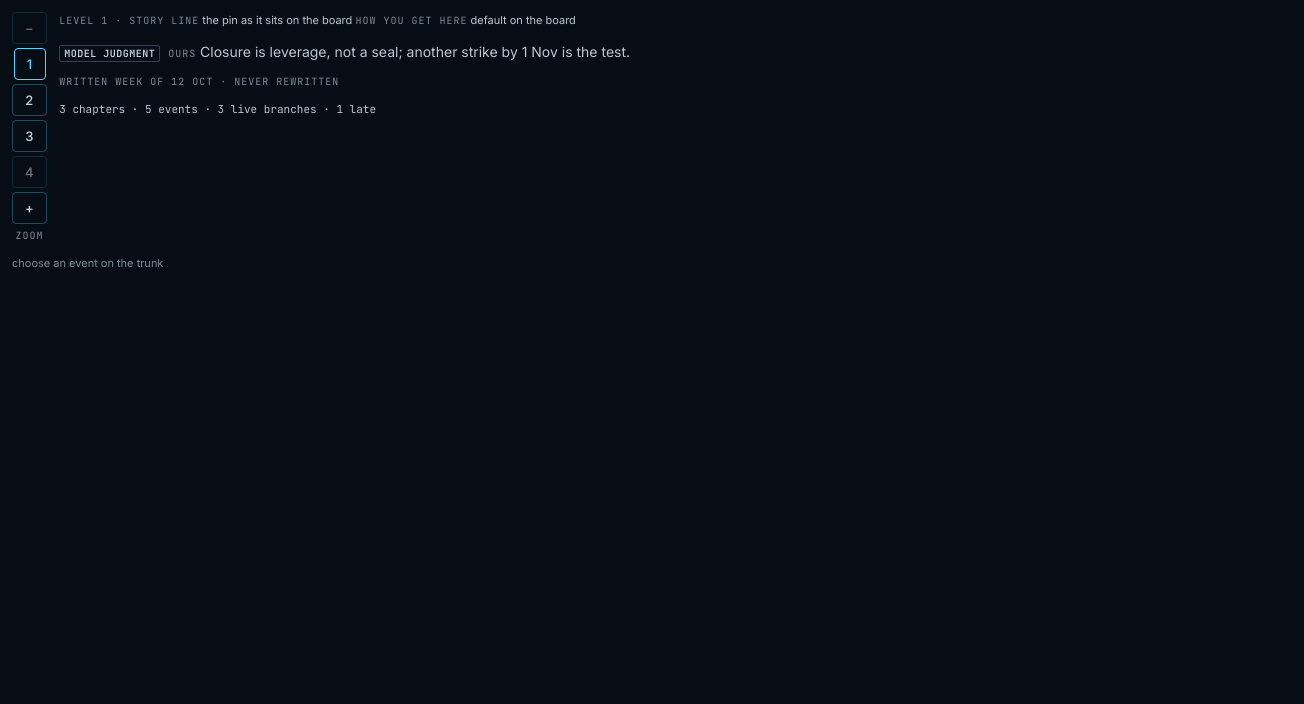
Test case: the tree reads today, not the facts day › the present line and the late flags use today (UTC); a note says where the facts stop
Click the button "3": (30, 136) [12, 120, 47, 152]
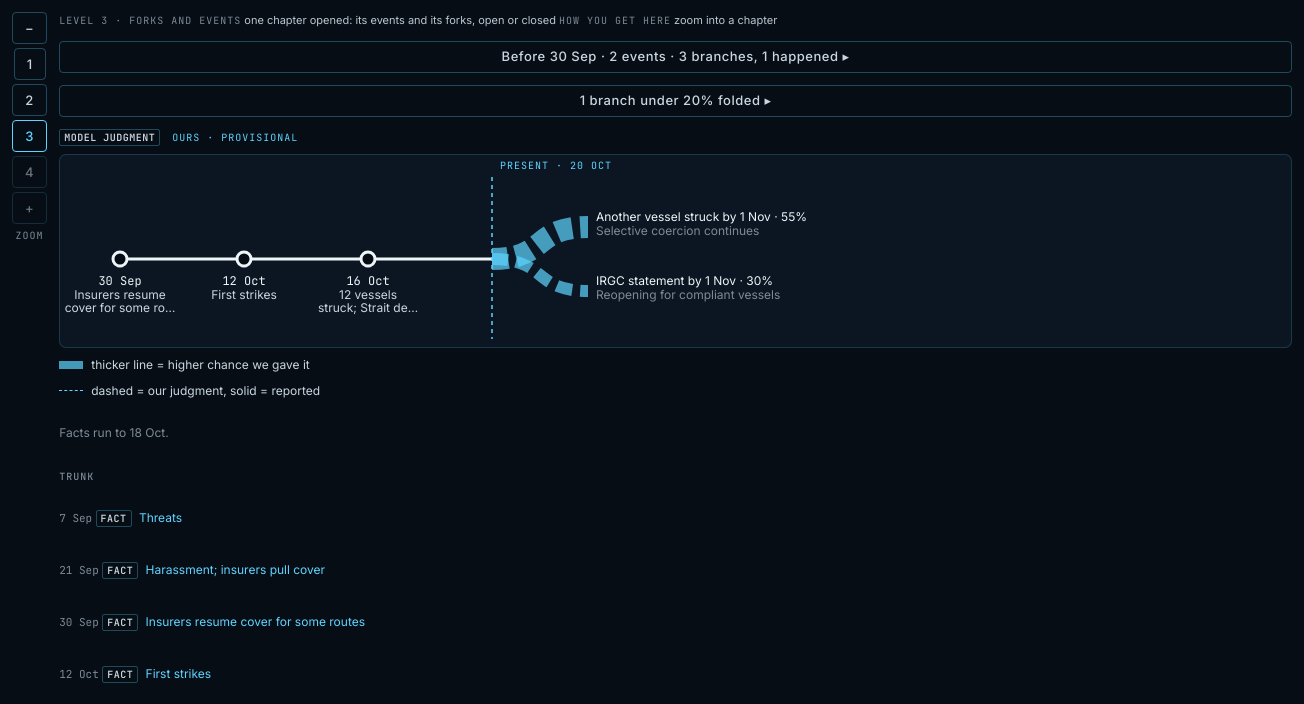
Expected: the icon with class "story-tree__svg" shows "PRESENT · 20 OCT", [500, 158, 612, 172]
Expected: the text "Facts run to 18 Oct." is shown, [59, 424, 169, 440]
